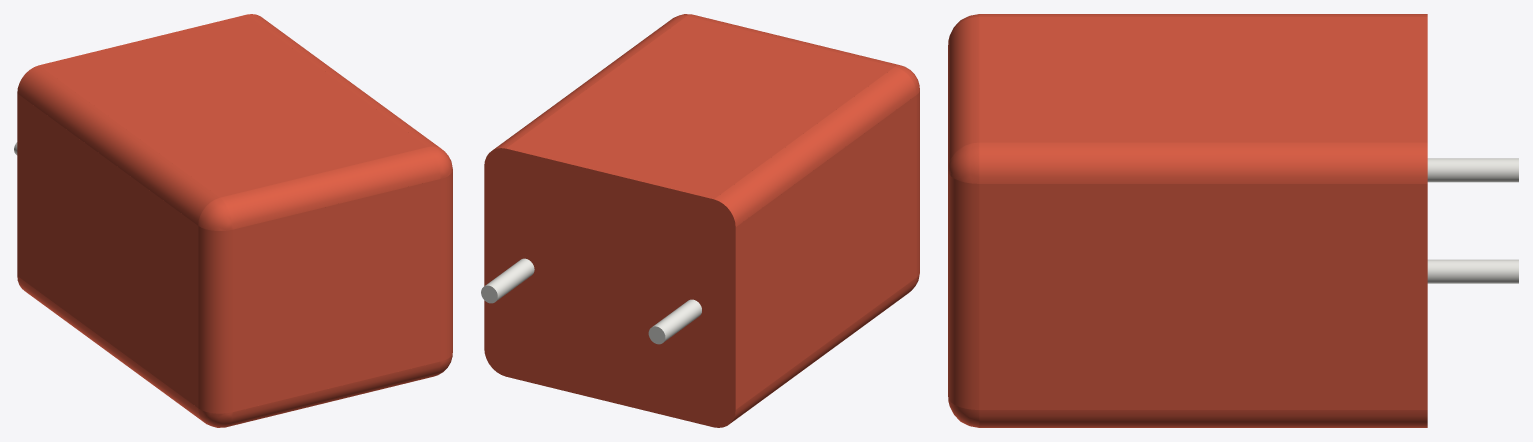
The model's file is C_Rect_L7.5mm_W6.5mm_P5.00mm.glb.
3 renders of one model, left to right at view 1: azimuth 30°, elevation 25°; view 2: azimuth 150°, elevation 25°; view 3: azimuth 270°, elevation 25°, orthographic. The views are drawn at different scales.
Visible parts, largest first — view 1: Shape_IndexedFaceSet.008, Shape_IndexedFaceSet.009, Shape_IndexedFaceSet, Shape_IndexedFaceSet.004, Shape_IndexedFaceSet.016, Shape_IndexedFaceSet.002, Shape_IndexedFaceSet.015, Shape_IndexedFaceSet.017, Shape_IndexedFaceSet.001, Shape_IndexedFaceSet.011, Shape_IndexedFaceSet.007, Shape_IndexedFaceSet.005 (+1 smaller); view 2: Shape_IndexedFaceSet.003, Shape_IndexedFaceSet.009, Shape_IndexedFaceSet, Shape_IndexedFaceSet.004, Shape_IndexedFaceSet.001, Shape_IndexedFaceSet.011, Shape_IndexedFaceSet.013, Shape_IndexedFaceSet.014, Shape_IndexedFaceSet.016, Shape_IndexedFaceSet.002; view 3: Shape_IndexedFaceSet.012, Shape_IndexedFaceSet.009, Shape_IndexedFaceSet.011, Shape_IndexedFaceSet.010, Shape_IndexedFaceSet.017, Shape_IndexedFaceSet.016, Shape_IndexedFaceSet.013, Shape_IndexedFaceSet.014, Shape_IndexedFaceSet.004, Shape_IndexedFaceSet.019.
Part boxes in pixels (x1,y1,x2,y2): Shape_IndexedFaceSet.008: (232,179,440,411); Shape_IndexedFaceSet.009: (39,14,427,197); Shape_IndexedFaceSet: (17,93,198,407); Shape_IndexedFaceSet.004: (17,65,219,225); Shape_IndexedFaceSet.016: (220,147,440,229); Shape_IndexedFaceSet.002: (198,226,232,413); Shape_IndexedFaceSet.015: (226,361,440,427); Shape_IndexedFaceSet.017: (440,170,452,361); Shape_IndexedFaceSet.001: (17,276,203,421); Shape_IndexedFaceSet.011: (247,14,440,148); Shape_IndexedFaceSet.007: (198,198,232,230); Shape_IndexedFaceSet.005: (198,408,232,427); Shape_IndexedFaceSet.003: (484,148,735,427); Shape_IndexedFaceSet.009: (506,16,894,199); Shape_IndexedFaceSet: (735,95,916,409); Shape_IndexedFaceSet.004: (714,67,916,226); Shape_IndexedFaceSet.001: (729,278,916,424); Shape_IndexedFaceSet.011: (493,15,686,149); Shape_IndexedFaceSet.013: (652,299,701,341); Shape_IndexedFaceSet.014: (485,258,534,300); Shape_IndexedFaceSet.016: (687,14,899,66); Shape_IndexedFaceSet.002: (916,91,919,276); Shape_IndexedFaceSet.012: (979,184,1427,409); Shape_IndexedFaceSet.009: (979,17,1427,142); Shape_IndexedFaceSet.011: (979,142,1427,183); Shape_IndexedFaceSet.010: (979,410,1427,427); Shape_IndexedFaceSet.017: (948,171,979,409); Shape_IndexedFaceSet.016: (948,17,979,170); Shape_IndexedFaceSet.013: (1427,158,1518,182); Shape_IndexedFaceSet.014: (1427,259,1518,283); Shape_IndexedFaceSet.004: (979,14,1427,16); Shape_IndexedFaceSet.019: (948,142,979,183).
Bounding box in the file's own units: 2.95 × 2.56 × 4.69.
